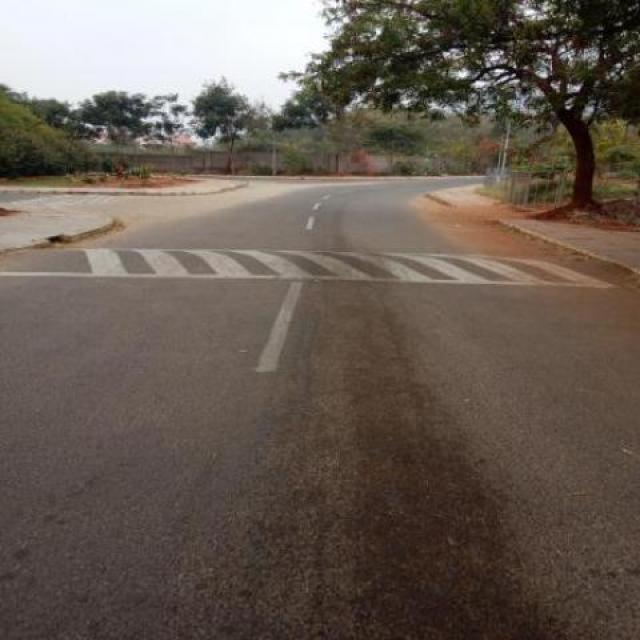Speed Bump: (0, 247, 639, 284)
